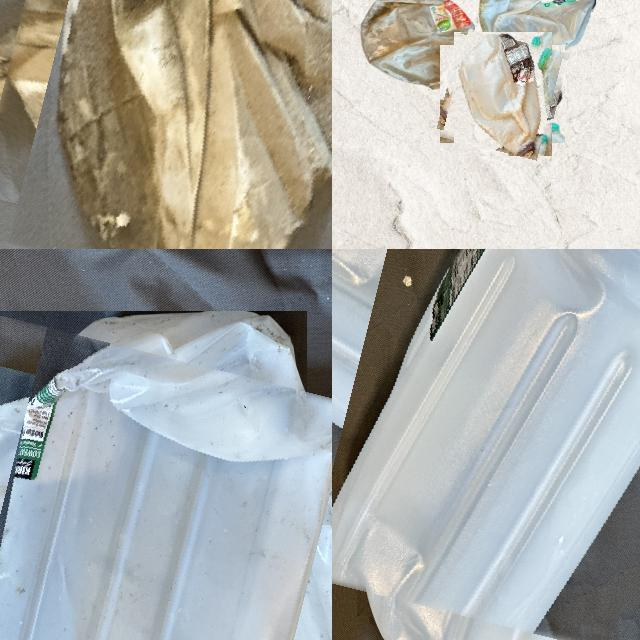milk-jug: (332, 249, 640, 640), (0, 337, 332, 640), (0, 0, 332, 249), (440, 32, 563, 156), (355, 0, 474, 97), (477, 0, 598, 74)
